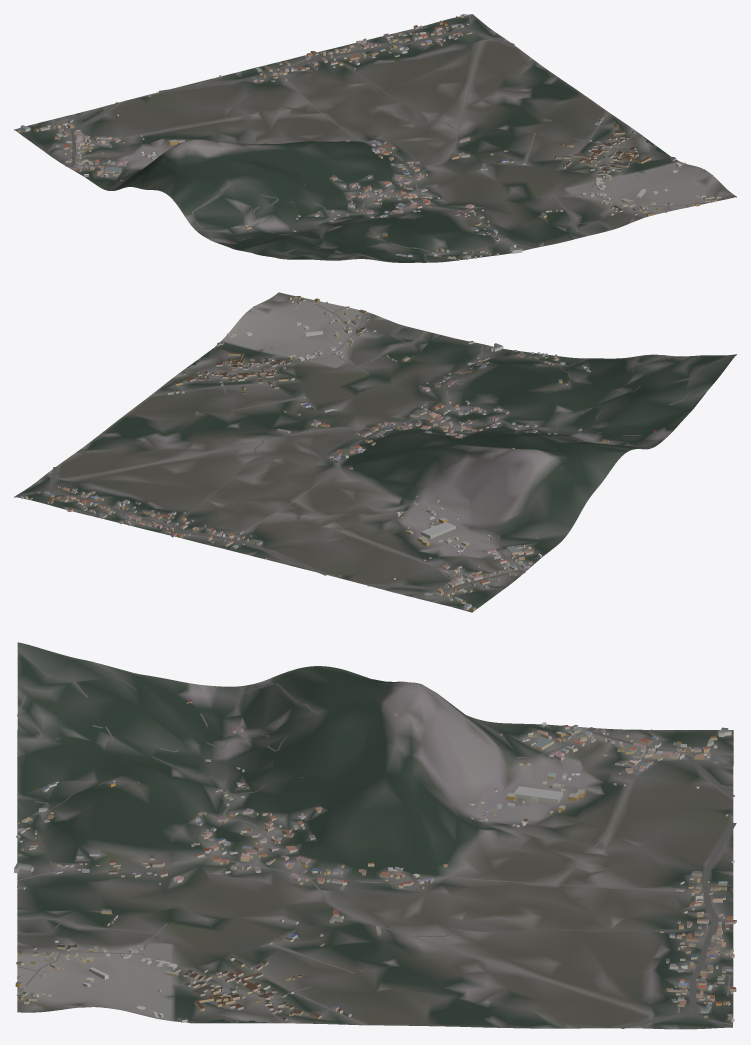
The picture shows the model from 3 angles, top to bottom: view 1: azimuth 30°, elevation 25°; view 2: azimuth 150°, elevation 25°; view 3: azimuth 270°, elevation 25°; orthographic projection. The views are drawn at different scales.
Parts seen in each view (by area): view 1: ground, buildings, roads; view 2: ground, buildings, roads; view 3: ground, buildings, roads.
Part boxes in pixels (box(x1,y1,x2,y2)): ground: box(14, 14, 736, 262); buildings: box(17, 14, 721, 260); roads: box(53, 14, 712, 262); ground: box(14, 292, 736, 612); buildings: box(20, 296, 656, 610); roads: box(17, 297, 728, 602); ground: box(17, 642, 733, 1029); buildings: box(14, 700, 736, 1022); roads: box(16, 651, 736, 1028).
Bounding box in the file's own units: 1410 × 193 × 1416.
